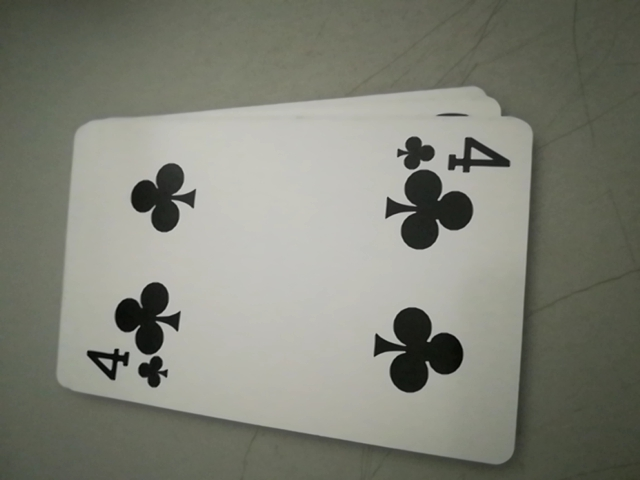mh 4: (394, 124, 511, 175), (75, 343, 177, 397)
